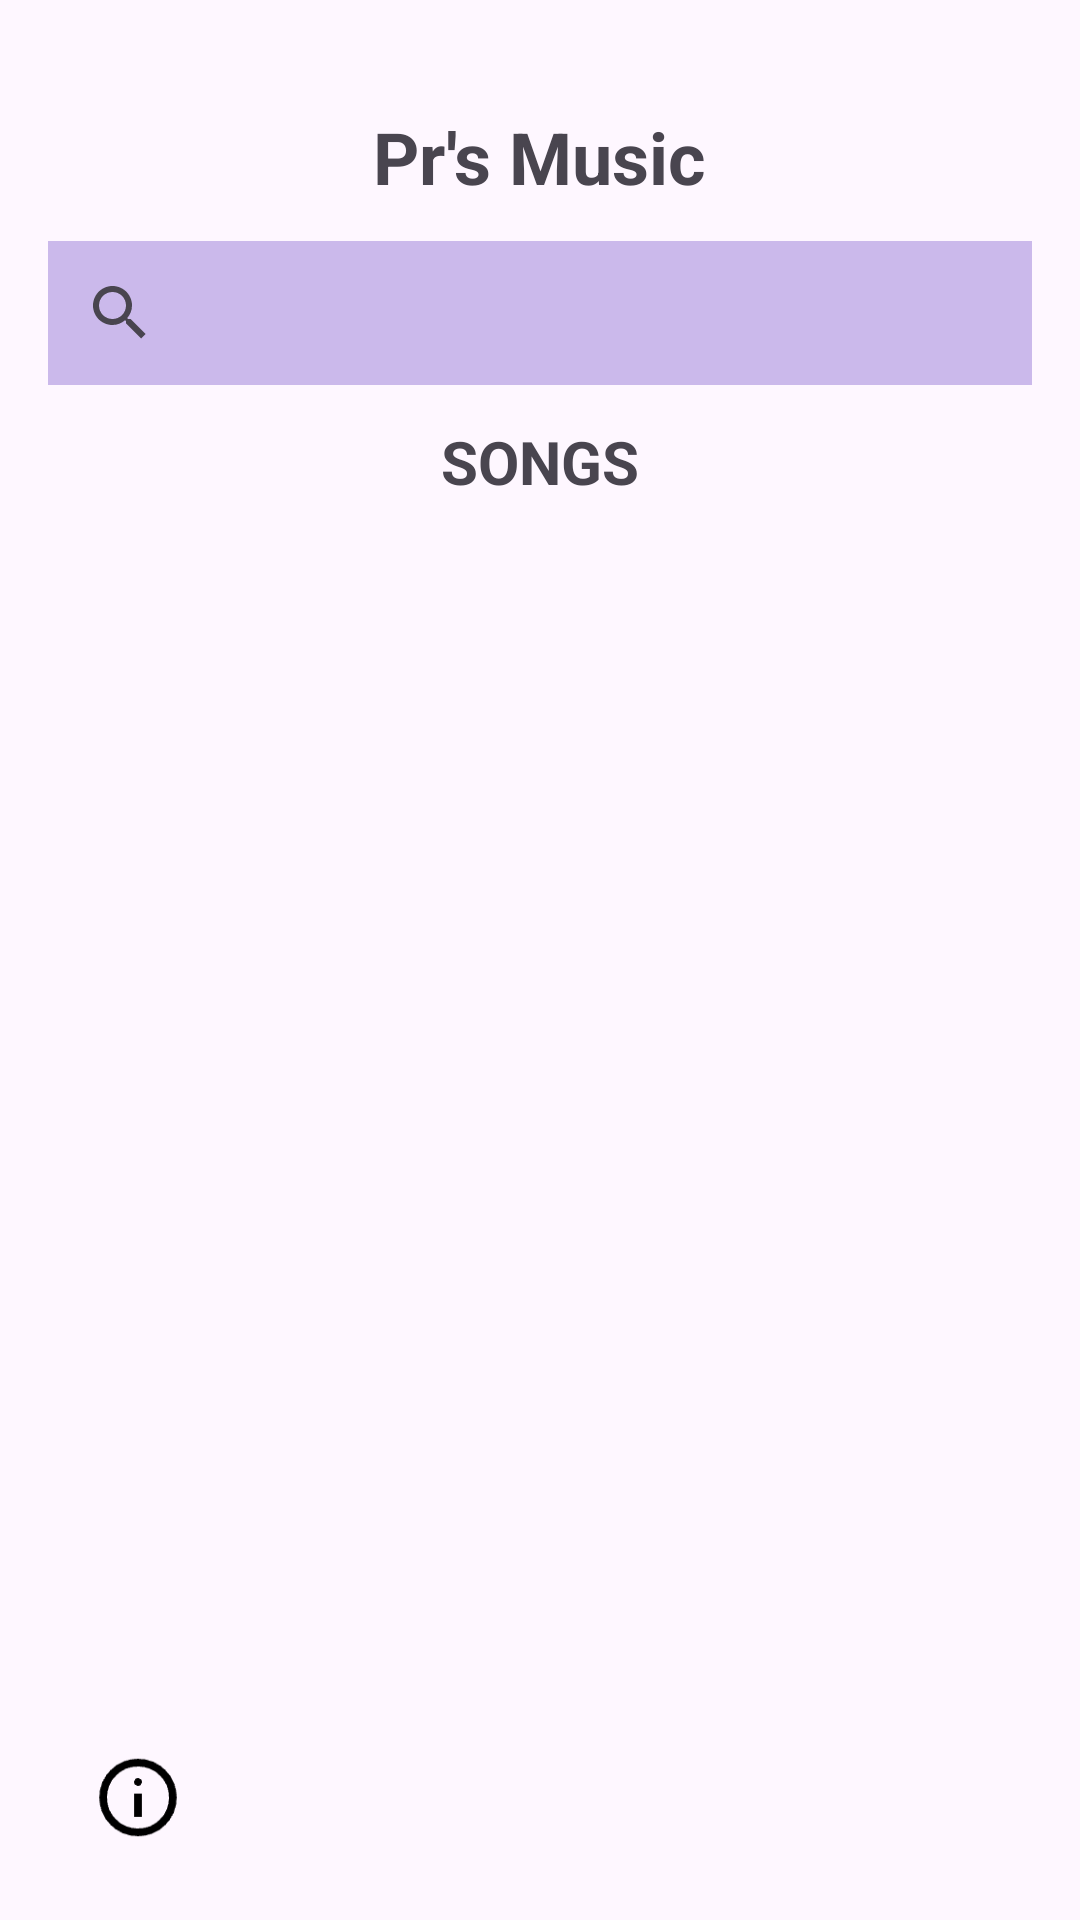

Named icons in this screenshot (1080 × 1920) and their bounding boxes, (x1, y1, x2, y2):
Info Icon: (99, 1758, 177, 1837)
